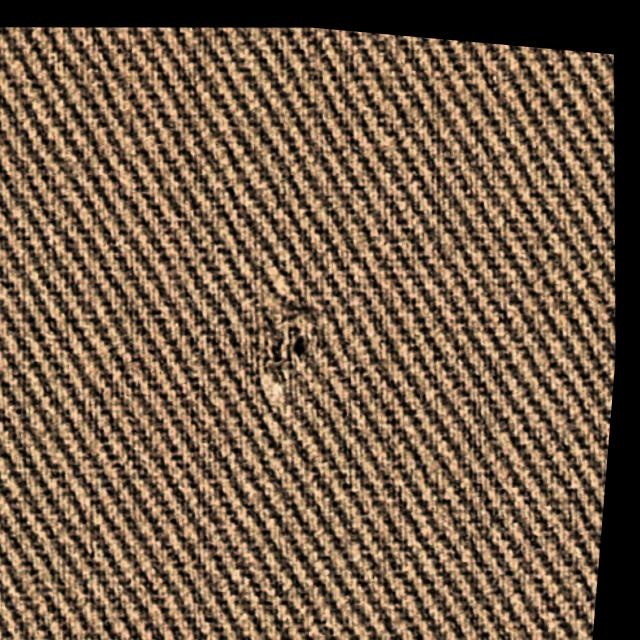Hole: (187, 234, 387, 462)
